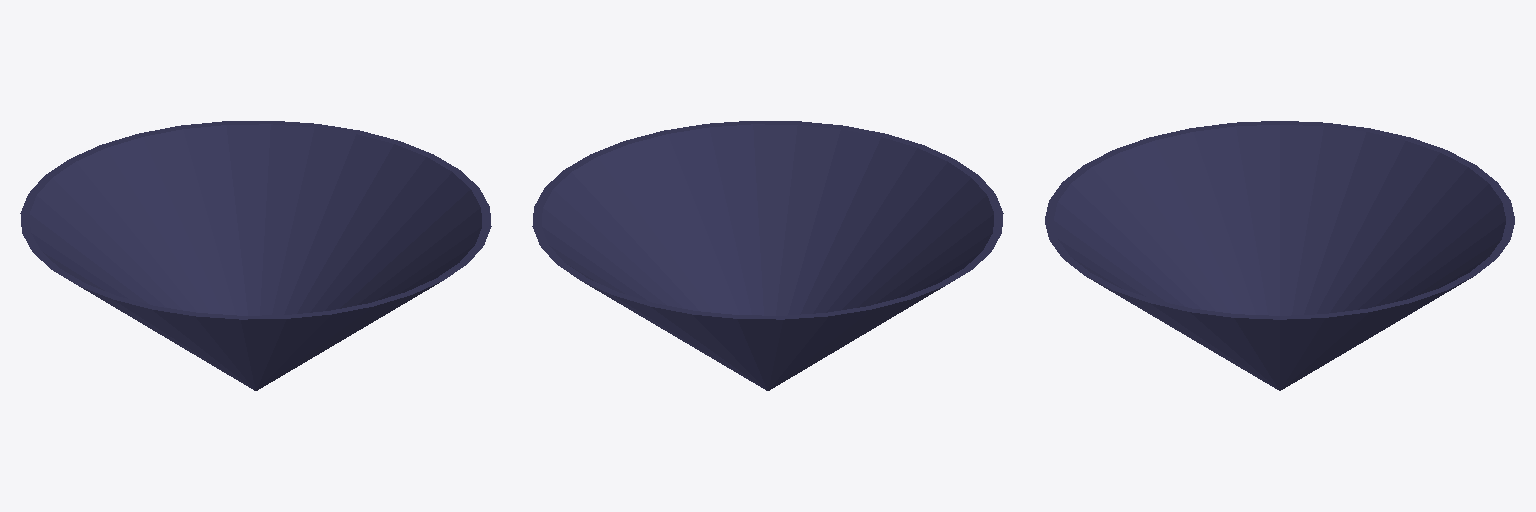
robot.urdf — object:
<?xml version="1.0"?>
<robot name="object">
  <link name="base_link"> <!-- required name-->
    <inertial>
      <origin xyz="0 0 0" /> 
      <mass value="1.0" />
      <inertia  ixx="1.0" ixy="0.0"  ixz="0.0"  iyy="1.0"  iyz="0.0"  izz="1.0" />
    </inertial>
    <visual>
      <origin xyz="0 0 0"/>
      <geometry>
        <!-- cone2 is slightly larger than a cone defined for mu = 1.2 -->
        <mesh filename="package://animals_description/meshes/cone2blue.dae"/>
      </geometry>
    </visual>
  </link>
</robot>

--- Facts derived from the render (not from the file) ---
The picture shows the robot from 3 angles, left to right: view 1: azimuth 30°, elevation 25°; view 2: azimuth 150°, elevation 25°; view 3: azimuth 270°, elevation 25°; orthographic projection.
Robot: object — 1 links, 0 joints (none); root link base_link; default pose: every joint at zero.
Links seen in each view (by area): view 1: base_link; view 2: base_link; view 3: base_link.
Link boxes in pixels (x1,y1,x2,y2): base_link: (20,121,491,390); base_link: (532,121,1003,390); base_link: (1045,121,1514,390).
Size in the robot's own frame: 0.6562 by 0.6562 by 0.2629 metres.
Meshes: 1 distinct files referenced, 1 mesh visuals loaded (1 Collada DAE).